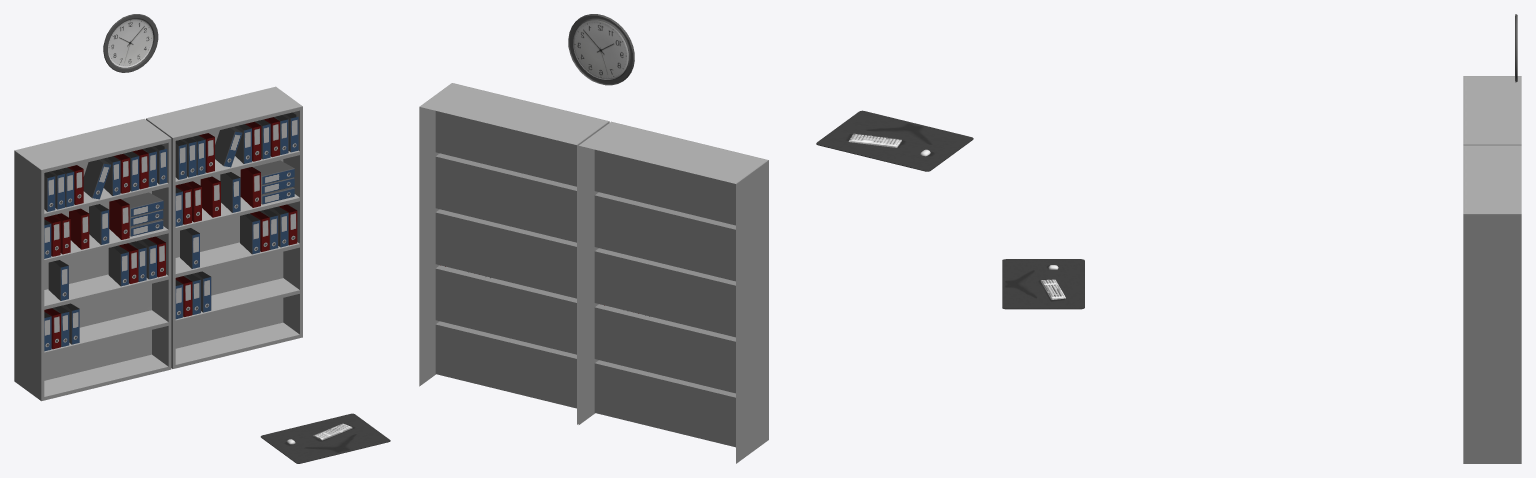
File: Office thing.fbx
The picture shows the model from 3 angles, left to right: view 1: azimuth 30°, elevation 25°; view 2: azimuth 150°, elevation 25°; view 3: azimuth 270°, elevation 25°; orthographic projection. The views are drawn at different scales.
Visible parts, largest first — view 1: shelf.001_details_0, table.003_desk_0.001, clock.001_details_0; view 2: shelf.001_details_0, table.003_desk_0.001, clock.001_details_0; view 3: shelf.001_details_0, table.003_desk_0.001.
Boxes of the visible parts, x1=… form: shelf.001_details_0: x1=14, y1=86, x2=302, y2=401; table.003_desk_0.001: x1=260, y1=413, x2=390, y2=463; clock.001_details_0: x1=103, y1=14, x2=158, y2=72; shelf.001_details_0: x1=419, y1=83, x2=768, y2=463; table.003_desk_0.001: x1=816, y1=110, x2=973, y2=171; clock.001_details_0: x1=568, y1=14, x2=634, y2=85; shelf.001_details_0: x1=1463, y1=76, x2=1521, y2=463; table.003_desk_0.001: x1=1002, y1=259, x2=1084, y2=309.
Bounding box in the file's own units: 297 × 370 × 473.
Materials: 2 (2 with a texture image).
